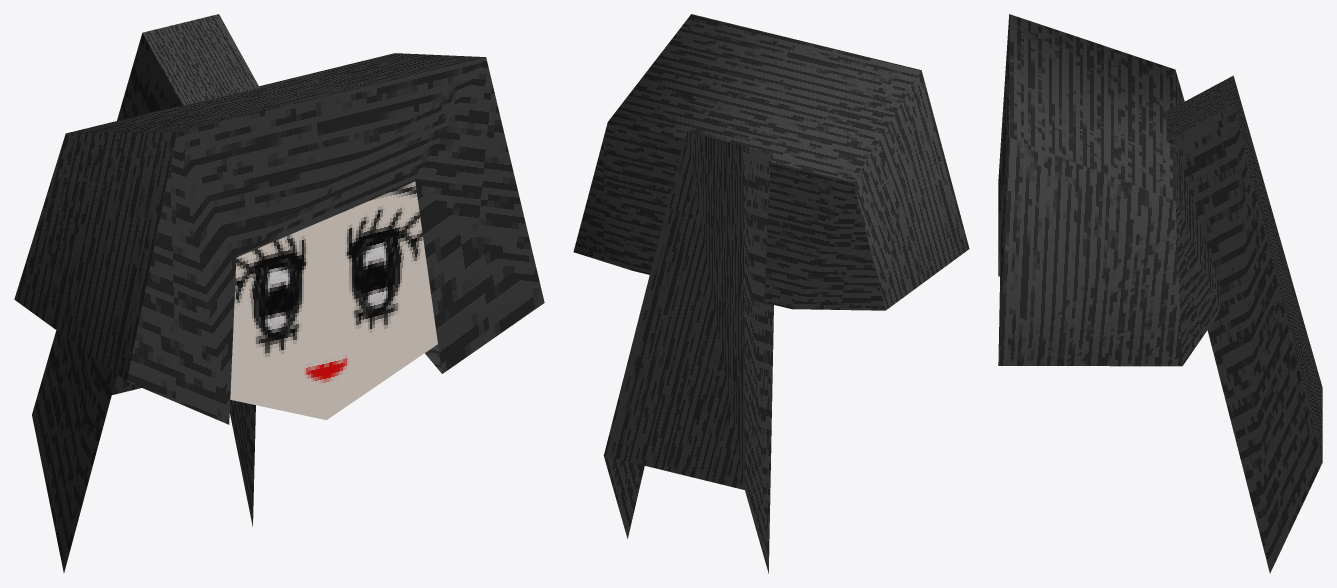
Rendered from C_GH_Head_F8.FBX.
The picture shows the model from 3 angles, left to right: view 1: azimuth 30°, elevation 25°; view 2: azimuth 150°, elevation 25°; view 3: azimuth 270°, elevation 25°; orthographic projection. The views are drawn at different scales.
Parts seen in each view (by area): view 1: Hair, Face; view 2: Hair; view 3: Hair.
Part boxes in pixels (<box>): Hair: <box>14,14,544,572</box>; Face: <box>230,181,437,420</box>; Hair: <box>573,14,969,573</box>; Hair: <box>998,14,1322,573</box>.
Size of the model in its own units: 33.15 by 43.13 by 27.17.
Materials: 2 (2 with a texture image).
